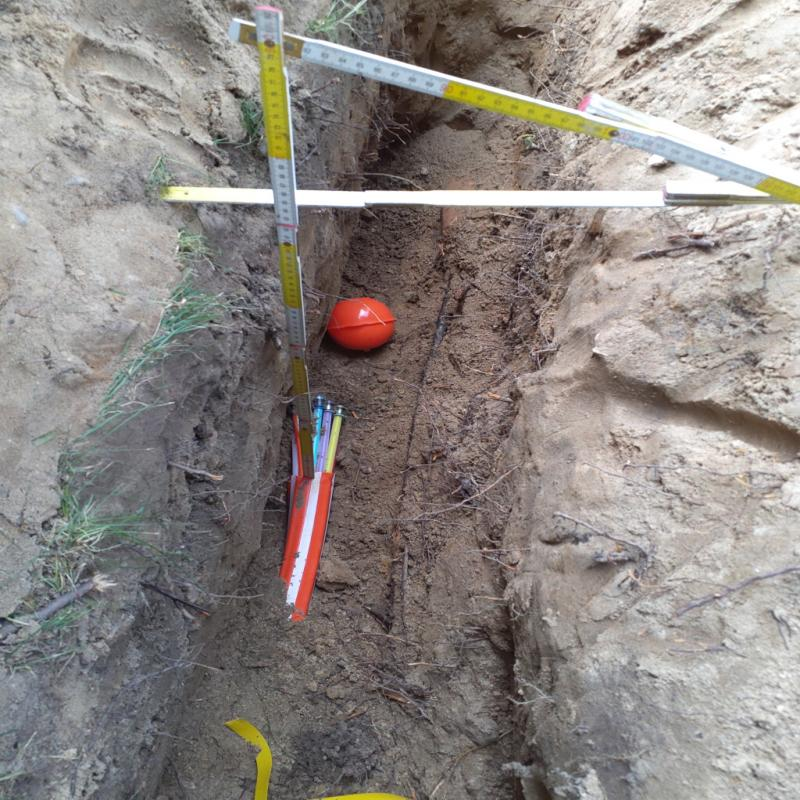Kugelmarker: (327, 299, 397, 352)
Orang-Speednetrohrchen: (278, 399, 342, 619)
